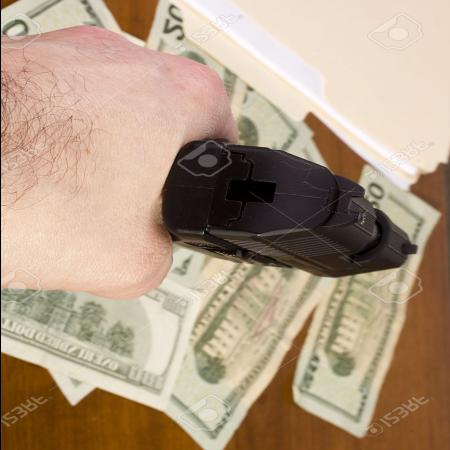Pistol: (155, 139, 424, 280)
